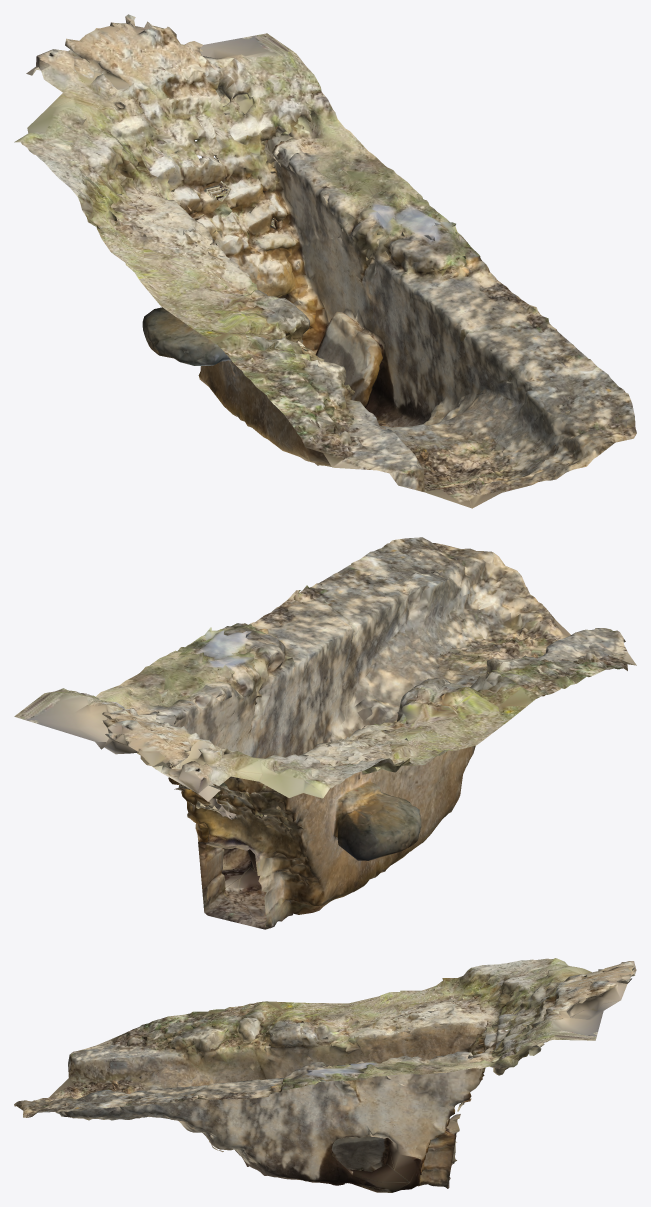
Rendered from Tafos200_Entrance.fbx.
The picture shows the model from 3 angles, top to bottom: view 1: azimuth 30°, elevation 25°; view 2: azimuth 150°, elevation 25°; view 3: azimuth 270°, elevation 25°; orthographic projection. The views are drawn at different scales.
Parts seen in each view (by area): view 1: Tafos200-Entrance; view 2: Tafos200-Entrance; view 3: Tafos200-Entrance.
Part boxes in pixels (bbox=[...]): Tafos200-Entrance: bbox=[14, 14, 636, 508]; Tafos200-Entrance: bbox=[14, 537, 636, 929]; Tafos200-Entrance: bbox=[14, 958, 636, 1192].
Size of the model in its own units: 373 by 995 by 352.
